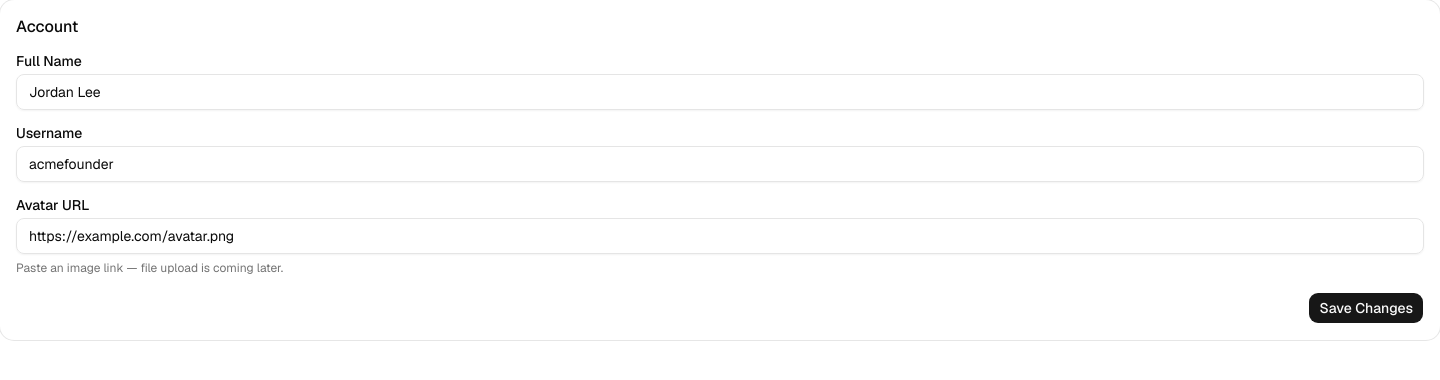
Test: IndustryAccountSettingsForm › validates avatar URL
The width and height of the screenshot is (1440, 380).
Replace the text in the field labelled "Avatar URL" with "not-a-url" at [720, 236], box [16,218,1424,254]
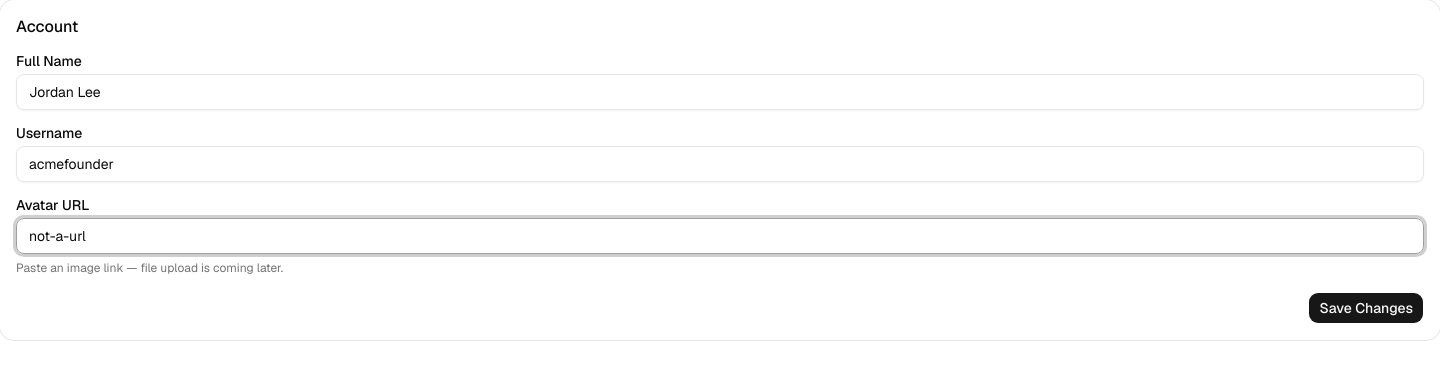
Click the button "Save Changes" at [1366, 308], box [1308,292,1424,324]
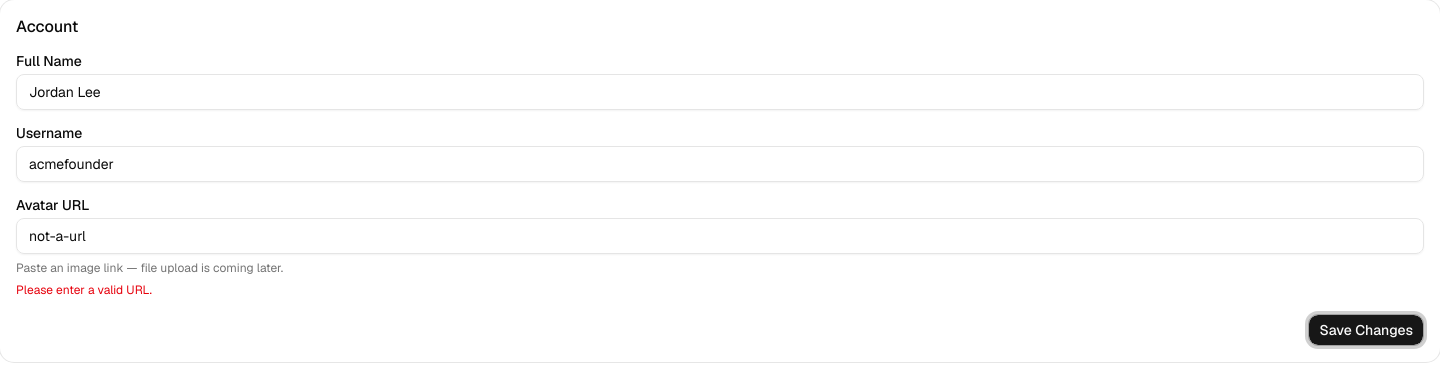
Now the text "Please enter a valid URL." is shown, box [16,282,152,298]
